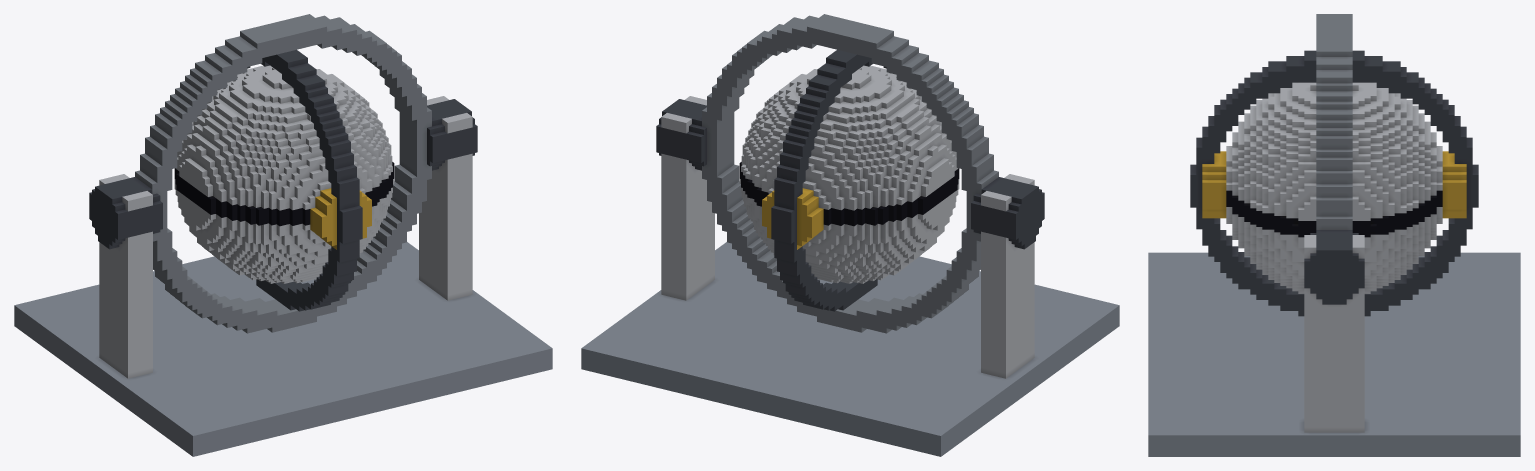
Rendered from cmg.glb.
3 renders of one model, left to right at view 1: azimuth 30°, elevation 25°; view 2: azimuth 150°, elevation 25°; view 3: azimuth 270°, elevation 25°, orthographic. The views are drawn at different scales.
Visible parts, largest first — view 1: cmg; view 2: cmg; view 3: cmg.
Boxes of the visible parts, left/top/right/bottom form: cmg: left=14, top=14, right=552, bottom=456; cmg: left=581, top=14, right=1119, bottom=456; cmg: left=1148, top=14, right=1520, bottom=456.
Bounding box in the file's own units: 1.12 × 0.9531 × 0.9688.
